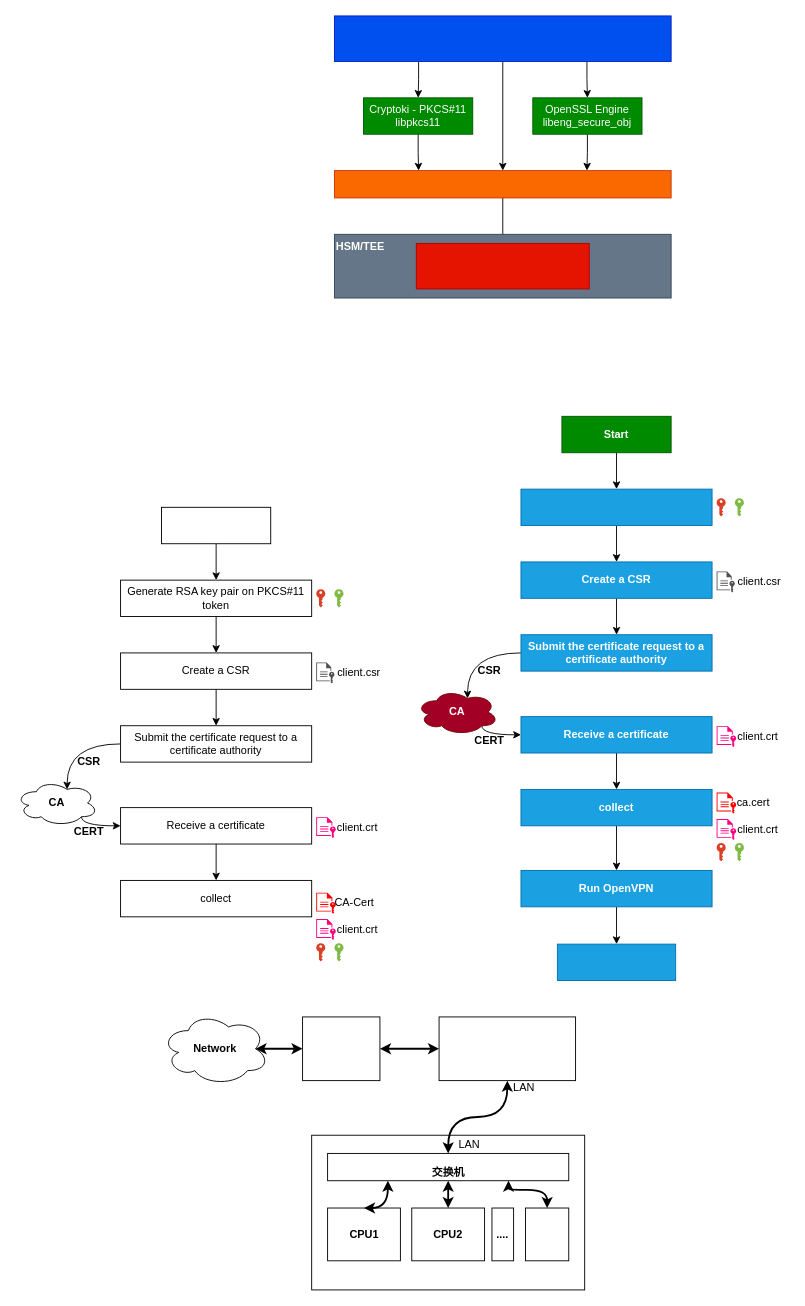
Image size: 805x1306. Some labels were removed from this diagram. The box of each missing label's shape, as (x1, y1, x2, y2) in pixels:
4G module: (302, 1016, 380, 1081)
Applications: (334, 15, 671, 61)
Generate RSA key pair: (520, 488, 712, 526)
Init PKCS#11 Token: (161, 506, 271, 544)
OpenVPN challenge Process: (556, 943, 676, 981)
s32g: (525, 1207, 569, 1261)
Secure Object Library (HSM) - libsecure_obj: (334, 170, 671, 198)
SMC Interface Secure Storage| CAAM Driver: (415, 243, 589, 289)
TCU: (438, 1016, 576, 1081)
XCU: (311, 1134, 585, 1290)
